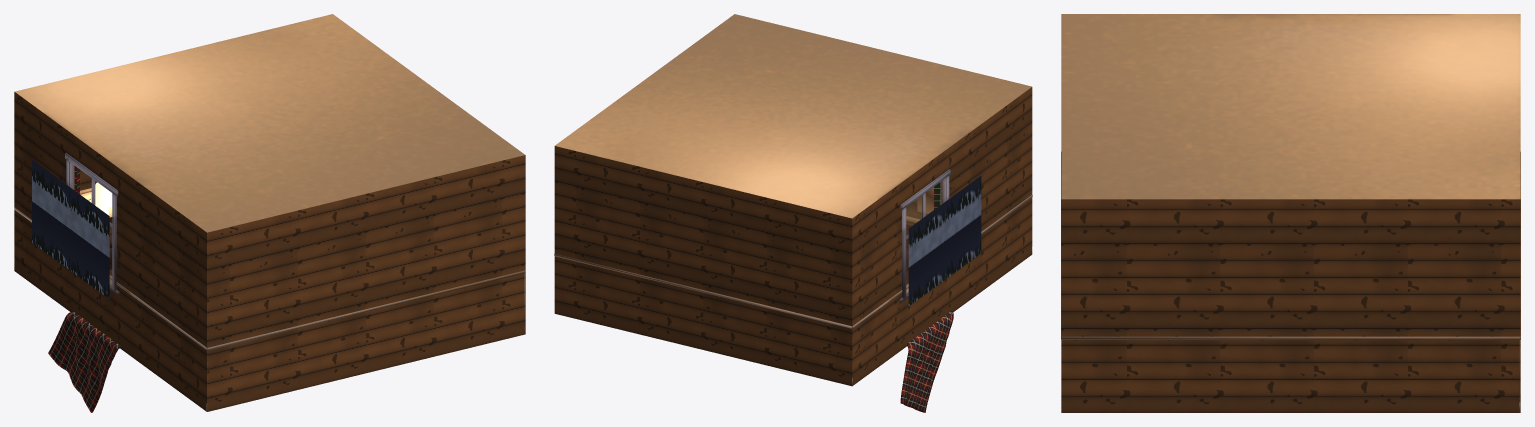
Rendered from cabin_bedroom.glb.
3 views of the same model, side by side, from view 1: azimuth 30°, elevation 25°; view 2: azimuth 150°, elevation 25°; view 3: azimuth 270°, elevation 25° (orthographic). The views are drawn at different scales.
Visible parts, largest first — view 1: ceiling, wall_front, wall_left_a, wall_left_b, window_sky, duvet, wall_left_c, wall_left_d, chairrail_front, win_l; view 2: ceiling, wall_back, wall_left_a, wall_left_b, window_sky, duvet, wall_left_c, wall_left_d, chairrail_back, win_r; view 3: wall_right, ceiling, chairrail_right.
Boxes of the visible parts, x1,y1,x2,y2 form: ceiling: [15, 14, 524, 232]; wall_front: [207, 155, 525, 411]; wall_left_a: [115, 166, 206, 411]; wall_left_b: [14, 92, 69, 310]; window_sky: [32, 159, 109, 299]; duvet: [48, 311, 120, 412]; wall_left_c: [69, 270, 115, 341]; wall_left_d: [69, 132, 115, 187]; chairrail_front: [207, 270, 525, 350]; win_l: [112, 193, 116, 290]; ceiling: [555, 14, 1031, 218]; wall_back: [554, 146, 852, 386]; wall_left_a: [946, 87, 1032, 313]; wall_left_b: [852, 181, 903, 385]; window_sky: [908, 176, 981, 305]; duvet: [900, 310, 953, 412]; wall_left_c: [903, 279, 946, 348]; wall_left_d: [903, 150, 946, 201]; chairrail_back: [554, 254, 851, 328]; win_r: [902, 207, 906, 298]; wall_right: [1061, 199, 1520, 412]; ceiling: [1061, 14, 1520, 199]; chairrail_right: [1061, 336, 1520, 339].
Bounding box in the file's own units: 5.55 × 4.13 × 5.46.
23 materials, 11 textured.
